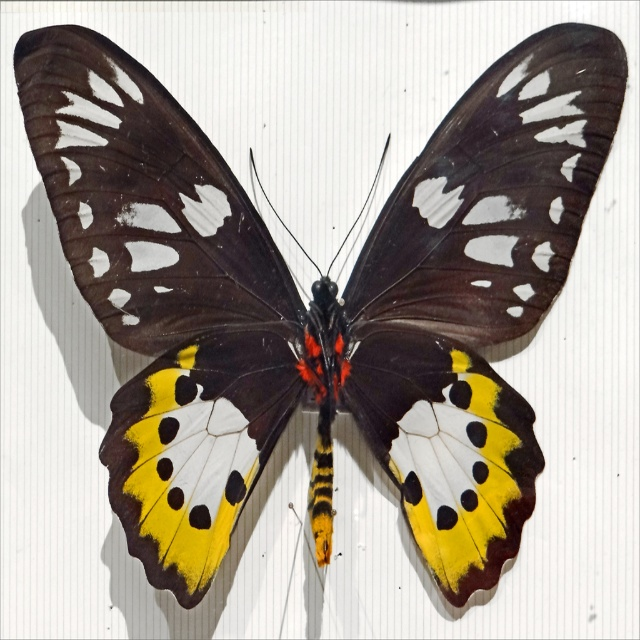Moths and butterflies: (12, 22, 631, 608)
